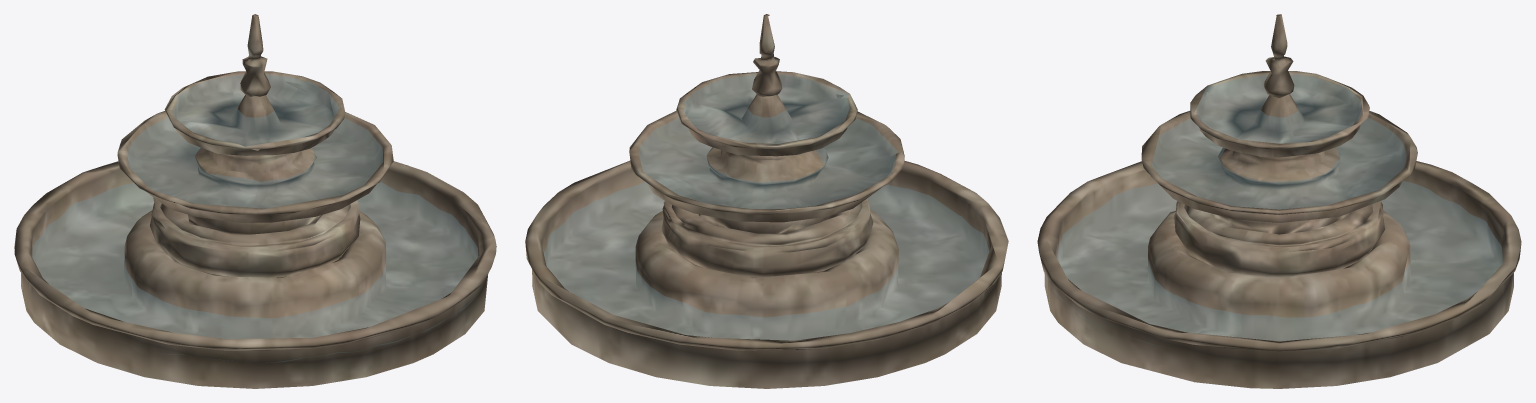
File: PRP_CityFountain_lod.glb
3 views of the same model, side by side, from view 1: azimuth 30°, elevation 25°; view 2: azimuth 150°, elevation 25°; view 3: azimuth 270°, elevation 25° (orthographic).
Parts seen in each view (by area): view 1: h_1Shape, f_1Shape, f_3Shape, f_2Shape; view 2: h_1Shape, f_1Shape, f_3Shape, f_2Shape; view 3: h_1Shape, f_1Shape, f_3Shape, f_2Shape.
Part boxes in pixels (left/top/right/bottom): h_1Shape: left=14, top=14, right=496, bottom=388; f_1Shape: left=32, top=182, right=478, bottom=361; f_3Shape: left=128, top=118, right=383, bottom=208; f_2Shape: left=173, top=75, right=339, bottom=145; h_1Shape: left=525, top=14, right=1008, bottom=388; f_1Shape: left=544, top=182, right=988, bottom=340; f_3Shape: left=639, top=118, right=897, bottom=208; f_2Shape: left=683, top=74, right=849, bottom=143; h_1Shape: left=1037, top=14, right=1521, bottom=388; f_1Shape: left=1057, top=181, right=1502, bottom=340; f_3Shape: left=1152, top=118, right=1405, bottom=209; f_2Shape: left=1197, top=75, right=1361, bottom=143.
Size of the model in its own units: 1085 by 684 by 1087.
Materials: 2 (2 with a texture image).
